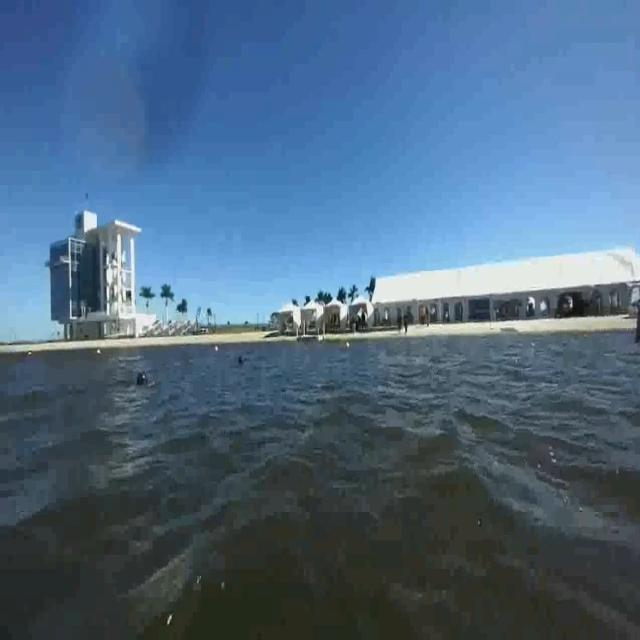black-buoy: (134, 368, 150, 391)
